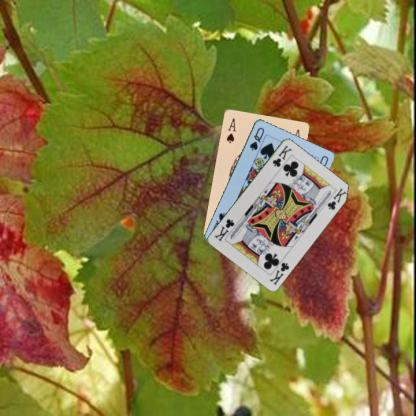As: (223, 115, 237, 144)
Kc: (267, 259, 291, 286), (270, 142, 294, 168)
Qs: (247, 124, 265, 152)
